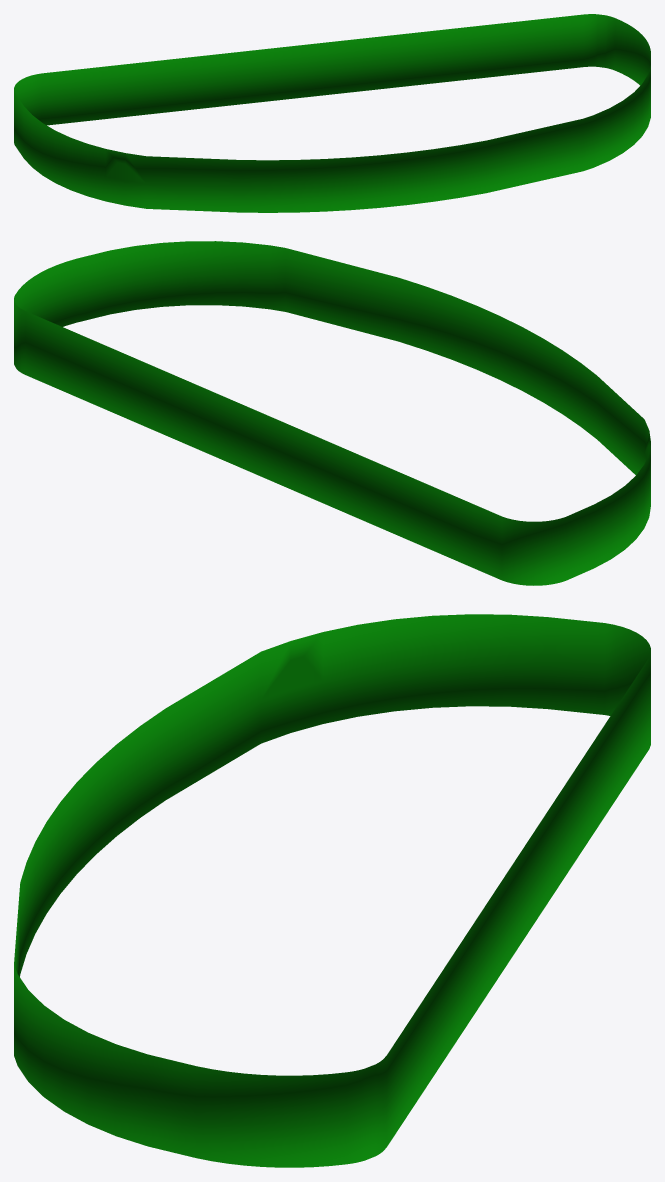
File: original-1.obj
3 views of the same model, one above another, from view 1: azimuth 30°, elevation 25°; view 2: azimuth 150°, elevation 25°; view 3: azimuth 270°, elevation 25° (orthographic). The views are drawn at different scales.
Parts seen in each view (by area): view 1: #ID38; view 2: #ID38; view 3: #ID38.
Part boxes in pixels (x1,y1,x2,y2): #ID38: (14, 14, 650, 212); #ID38: (14, 241, 650, 585); #ID38: (14, 614, 650, 1167).
Bounding box in the file's own units: 0.4132 × 0.0384 × 0.241.
